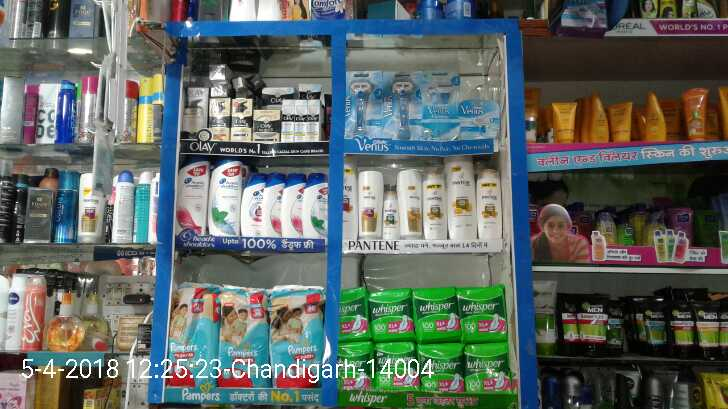venus: (344, 70, 383, 139), (384, 70, 421, 141), (460, 99, 500, 140), (422, 70, 459, 106), (423, 107, 458, 141)
